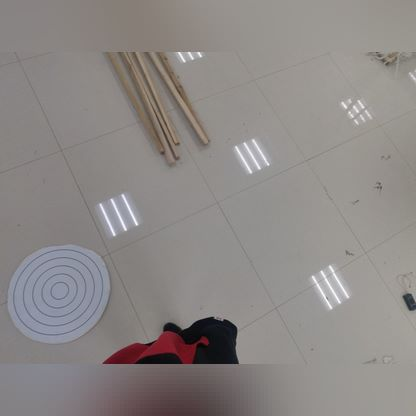circle: (5, 235, 112, 341)
